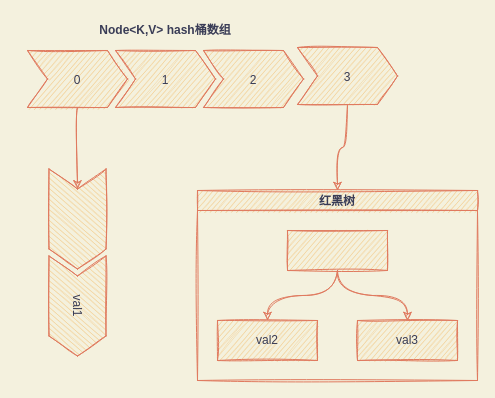
Some shapes in this 495 by 398 pixel diagram are drawn without their labels. Here are the shapes that lost their labels. From the top down, the centre of each, then its label:
At (77,218): "val0".
At (337,250): "Root".
